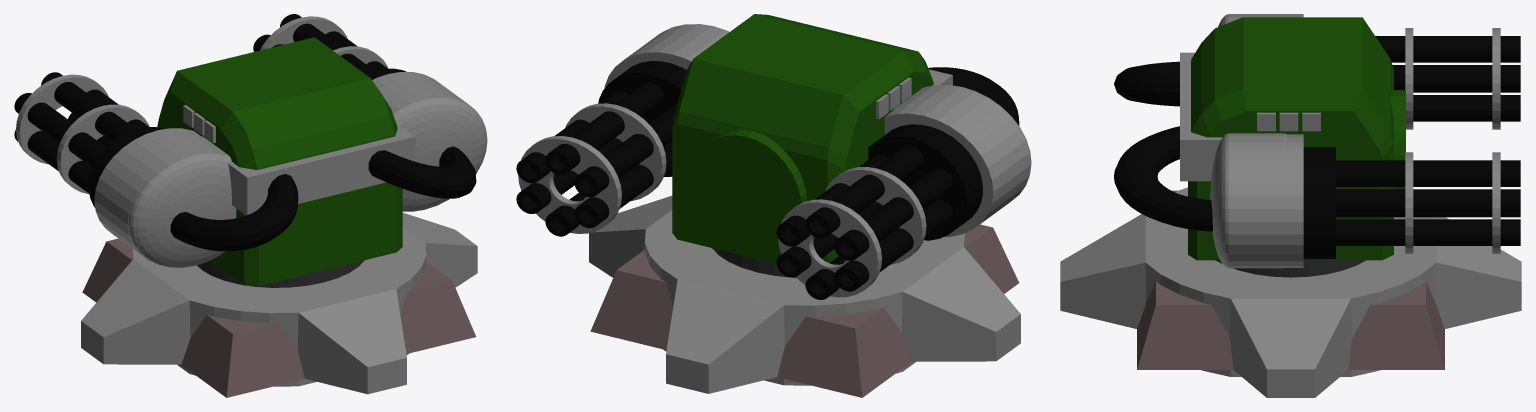
The model's file is WeaponGatlingGunM2.fbx.
3 renders of one model, left to right at view 1: azimuth 30°, elevation 25°; view 2: azimuth 150°, elevation 25°; view 3: azimuth 270°, elevation 25°, orthographic. The views are drawn at different scales.
Parts seen in each view (by area): view 1: Cylinder.001, Cylinder; view 2: Cylinder.001, Cylinder; view 3: Cylinder.001, Cylinder.
Boxes of the visible parts, x1,y1,x2,y2 form: Cylinder.001: (14, 14, 487, 287); Cylinder: (81, 212, 477, 397); Cylinder.001: (516, 14, 1031, 299); Cylinder: (589, 195, 1020, 397); Cylinder.001: (1114, 14, 1520, 277); Cylinder: (1060, 187, 1521, 397).
Bounding box in the file's own units: 738 × 464 × 738.
